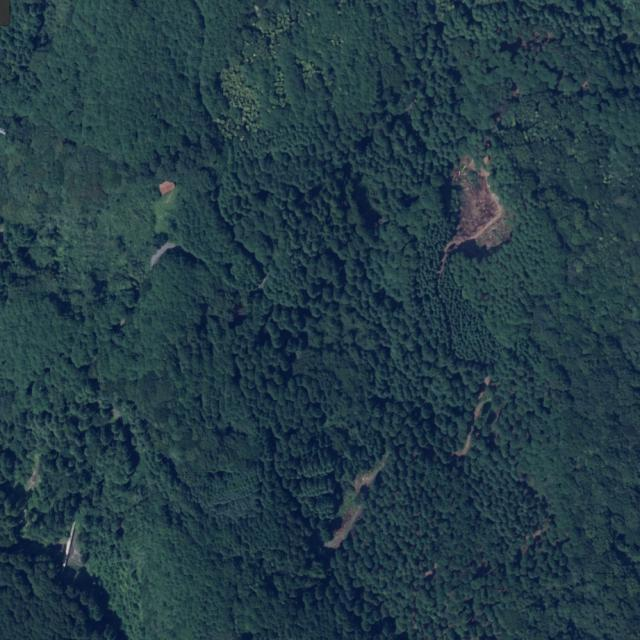landslide: (439, 155, 513, 275)
